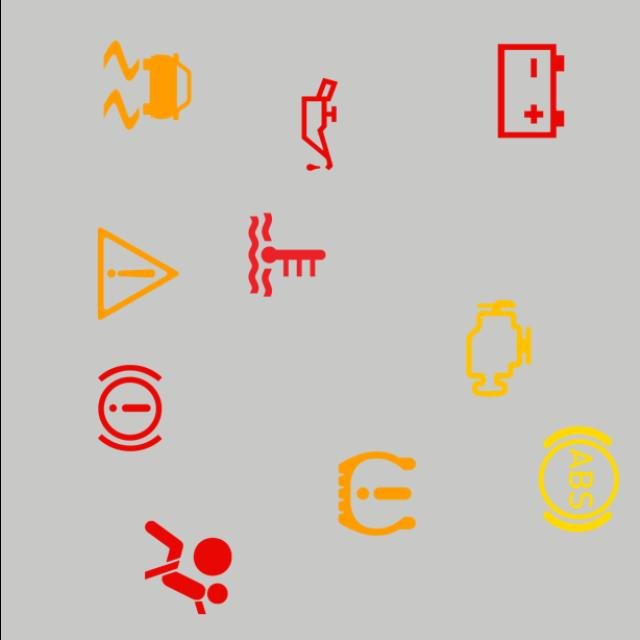Anti Lock Braking System: (520, 421, 636, 537)
Braking System Issue: (70, 350, 186, 466)
Charging System Issue: (472, 33, 588, 149)
Check Engine: (440, 290, 556, 406)
Electronic Stability Problem -ESP-: (89, 27, 204, 143)
Engine Overheating Warning Light: (228, 197, 344, 313)
Low Engine Oil Warning Light: (260, 66, 376, 182)
Low Tire Pressure Warning Light: (318, 436, 434, 552)
Master warning light: (79, 216, 195, 332)
SRS-Airbag: (129, 510, 245, 626)
